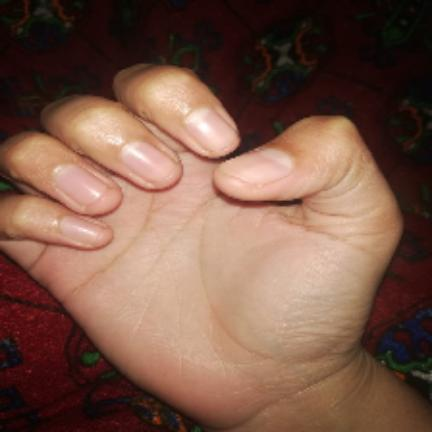Nail: (219, 148, 293, 184), (53, 165, 108, 206), (122, 142, 176, 182), (185, 108, 237, 149), (59, 215, 100, 243)
